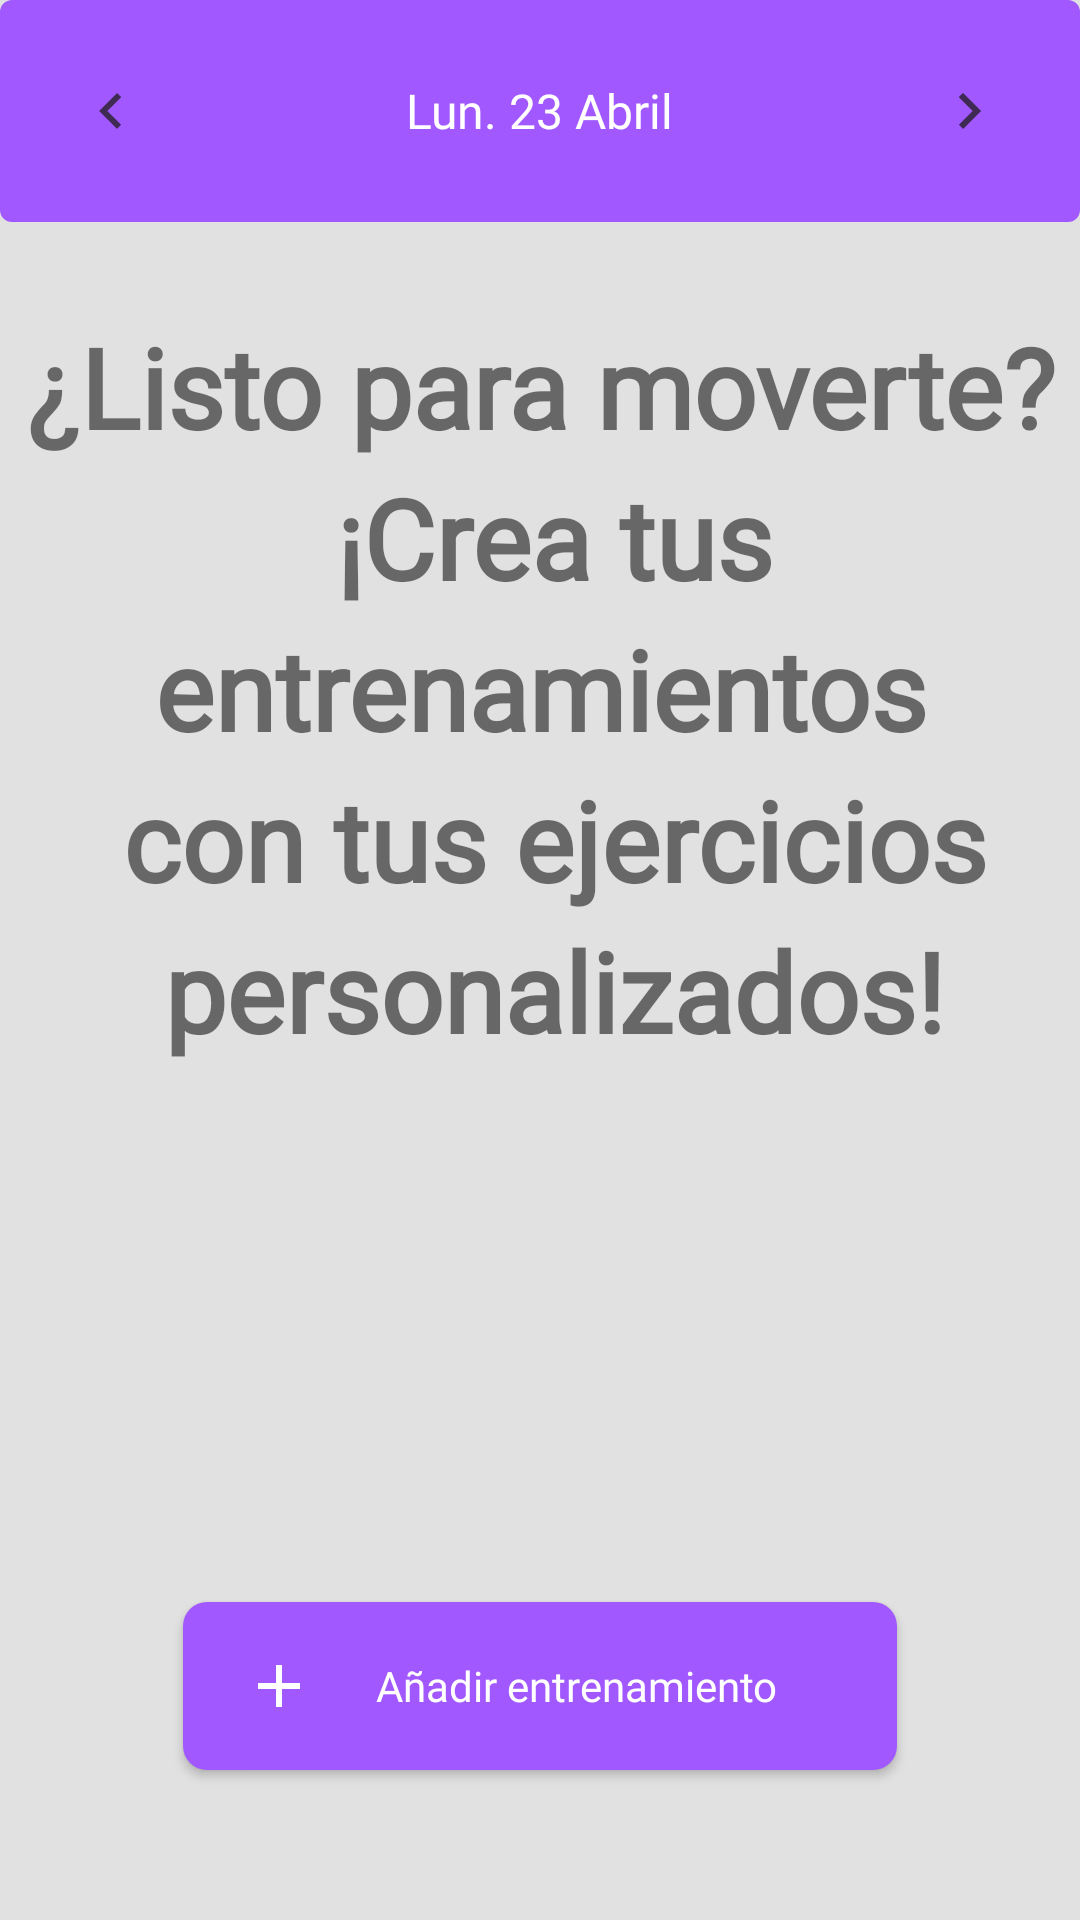

Point at icon controls on the screen. Image size 1080x1920, points as point (x, y).
dia anterior: point (110, 111)
siguiente dia: point (970, 111)
